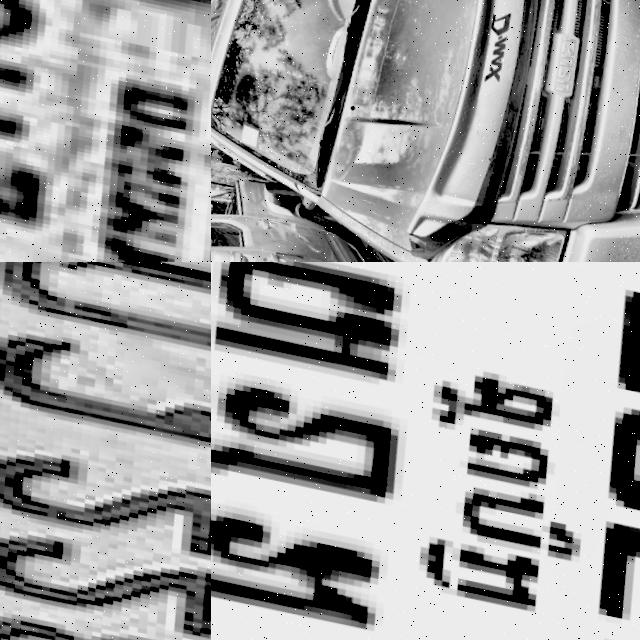license-plate: (211, 262, 640, 640), (0, 262, 211, 640), (0, 0, 211, 262)
